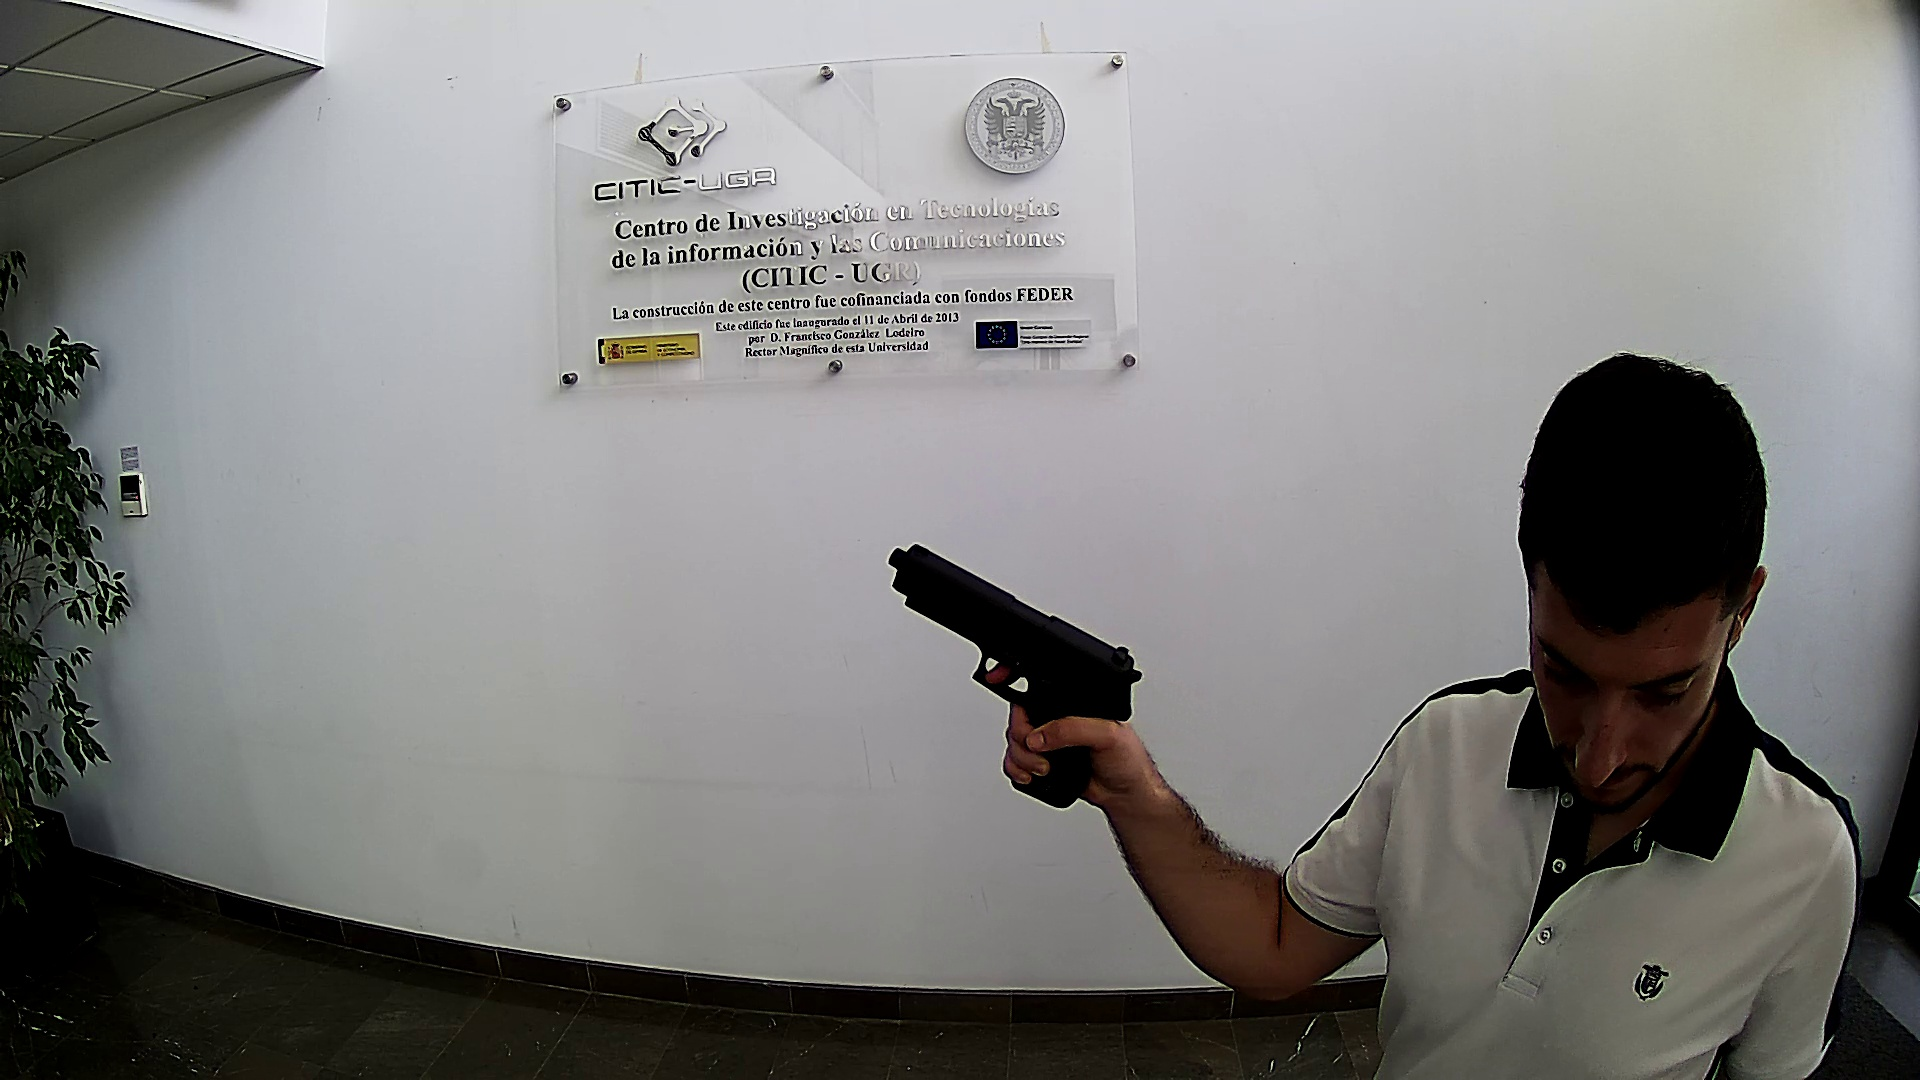pistol: (885, 542, 1145, 808)
